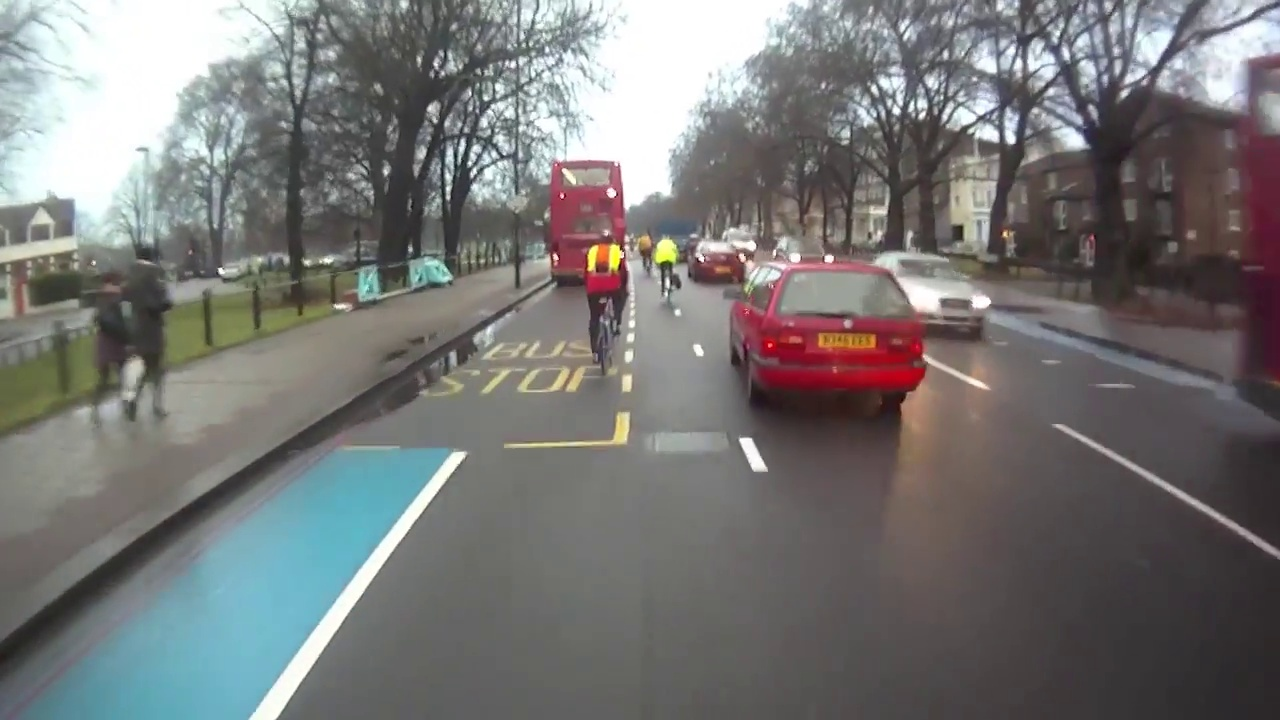cyclist_back: (582, 227, 631, 381), (651, 231, 685, 311), (637, 227, 658, 284)
